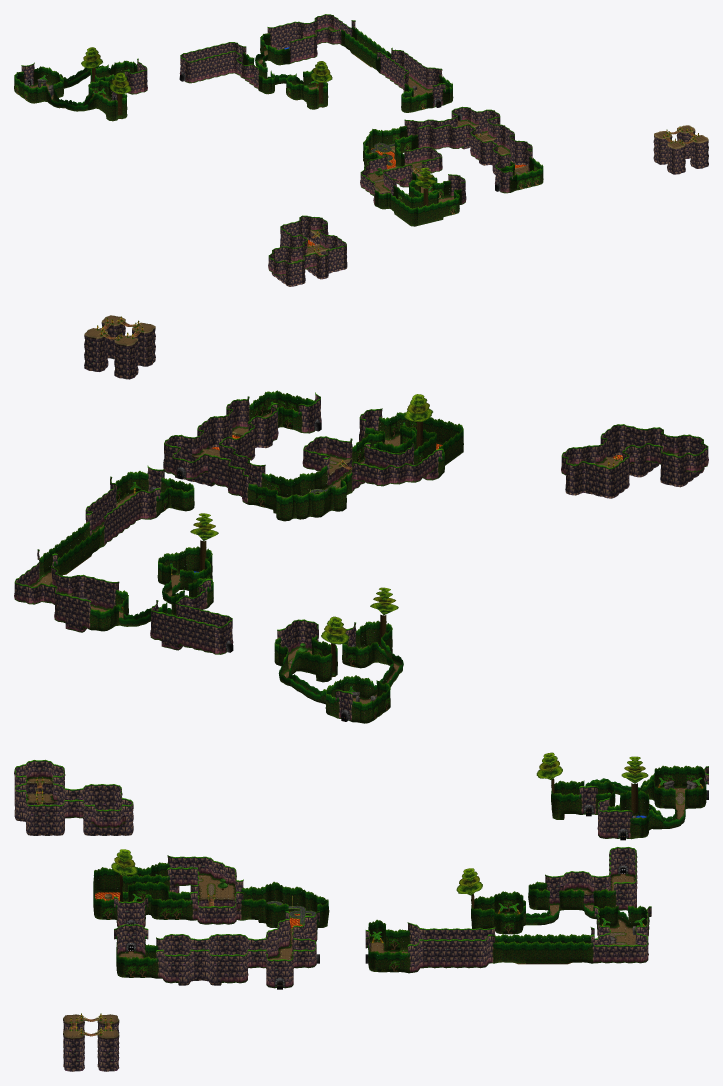
The picture shows the model from 3 angles, top to bottom: view 1: azimuth 30°, elevation 25°; view 2: azimuth 150°, elevation 25°; view 3: azimuth 270°, elevation 25°; orthographic projection. The views are drawn at different scales.
Visible parts, largest first — view 1: T3L7M001_326, T3L7M001_270; view 2: T3L7M001_805, T3L7M001_66, T3L7M001_326, T3L7M001_270; view 3: T3L7M001_66, T3L7M001_805, T3L7M001_270, T3L7M001_326.
Boxes of the visible parts, left/top/right/bottom form: T3L7M001_326: left=310, top=61, right=332, bottom=108; T3L7M001_270: left=109, top=72, right=131, bottom=120; T3L7M001_805: left=404, top=394, right=432, bottom=448; T3L7M001_66: left=321, top=616, right=349, bottom=680; T3L7M001_326: left=190, top=513, right=218, bottom=572; T3L7M001_270: left=370, top=587, right=398, bottom=647; T3L7M001_66: left=621, top=756, right=648, bottom=817; T3L7M001_805: left=111, top=849, right=137, bottom=901; T3L7M001_270: left=536, top=752, right=562, bottom=815; T3L7M001_326: left=456, top=868, right=482, bottom=928.
Size of the model in its own units: 233 by 26.44 by 243.
1 material, 1 textured.
